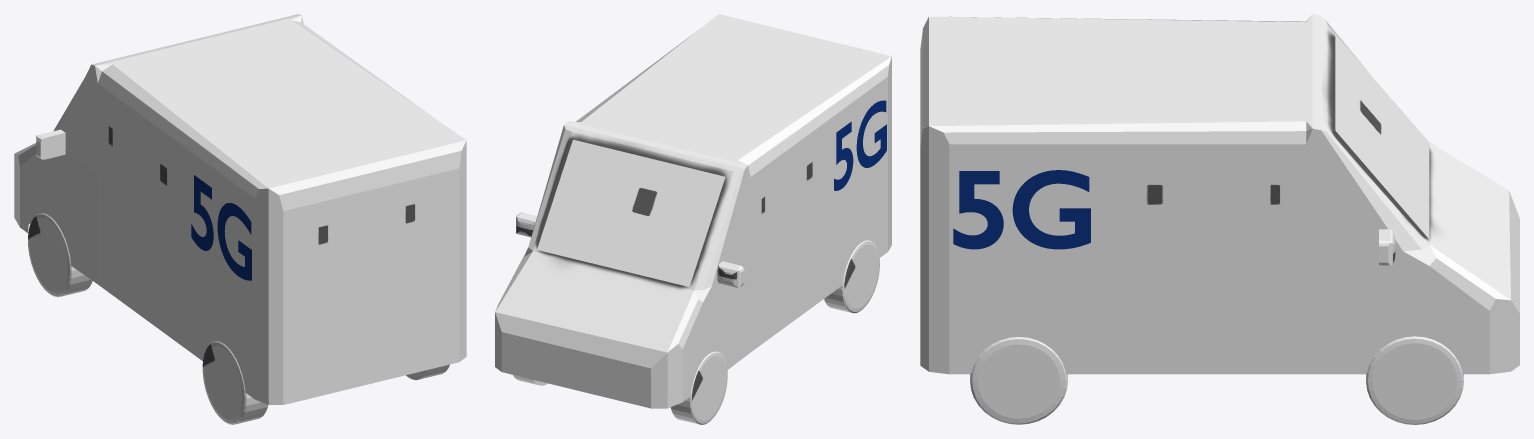
Rendered from 5G-auto1.fbx.
The picture shows the model from 3 angles, left to right: view 1: azimuth 30°, elevation 25°; view 2: azimuth 150°, elevation 25°; view 3: azimuth 270°, elevation 25°; orthographic projection. The views are drawn at different scales.
Visible parts, largest first — view 1: Cube, Plane.001, Plane.007, Plane.002, Plane.004, Cylinder.002, Cylinder.003, Text.001, Cube.001; view 2: Cube, Plane.006, Plane.002, Plane.004, Cylinder.003, Cylinder.002, Text.001, Cube.001, Cube.002; view 3: Cube, Plane.005, Plane.003, Plane.006, Cylinder, Cylinder.001, Text, Cube.002.
Boxes of the visible parts, x1,y1,x2,y2 form: Cube: (14,14,466,404); Plane.001: (374,173,455,271); Plane.007: (287,194,368,292); Plane.002: (131,122,188,241); Plane.004: (65,92,126,195); Cylinder.002: (202,341,268,424); Cylinder.003: (28,213,92,297); Text.001: (191,175,251,280); Cube.001: (36,129,65,159); Cube: (495,14,891,408); Plane.006: (537,139,725,286); Plane.002: (781,129,831,234); Plane.004: (727,170,776,265); Cylinder.003: (670,351,727,424); Cylinder.002: (824,240,879,313); Text.001: (834,100,886,190); Cube.001: (717,261,744,287); Cube.002: (516,212,537,237); Cube: (920,14,1519,374); Plane.005: (1097,161,1227,249); Plane.003: (1239,161,1377,249); Plane.006: (1335,34,1429,238); Cylinder: (1366,336,1463,424); Cylinder.001: (970,337,1067,424); Text: (953,170,1090,249); Cube.002: (1379,229,1395,266).
Bounding box in the file's own units: 310 × 300 × 550.
16 materials, 14 textured.
